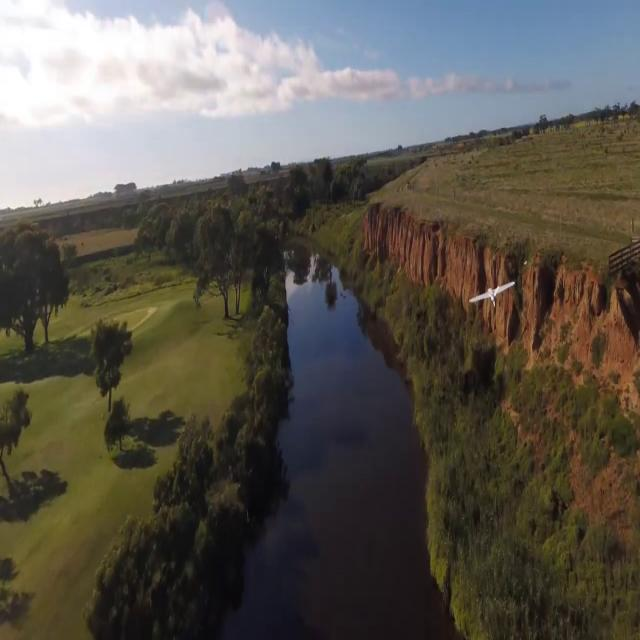iha: (467, 281, 514, 308)
